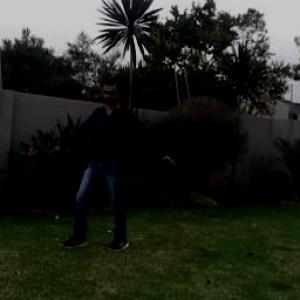land: (61, 85, 173, 228)
